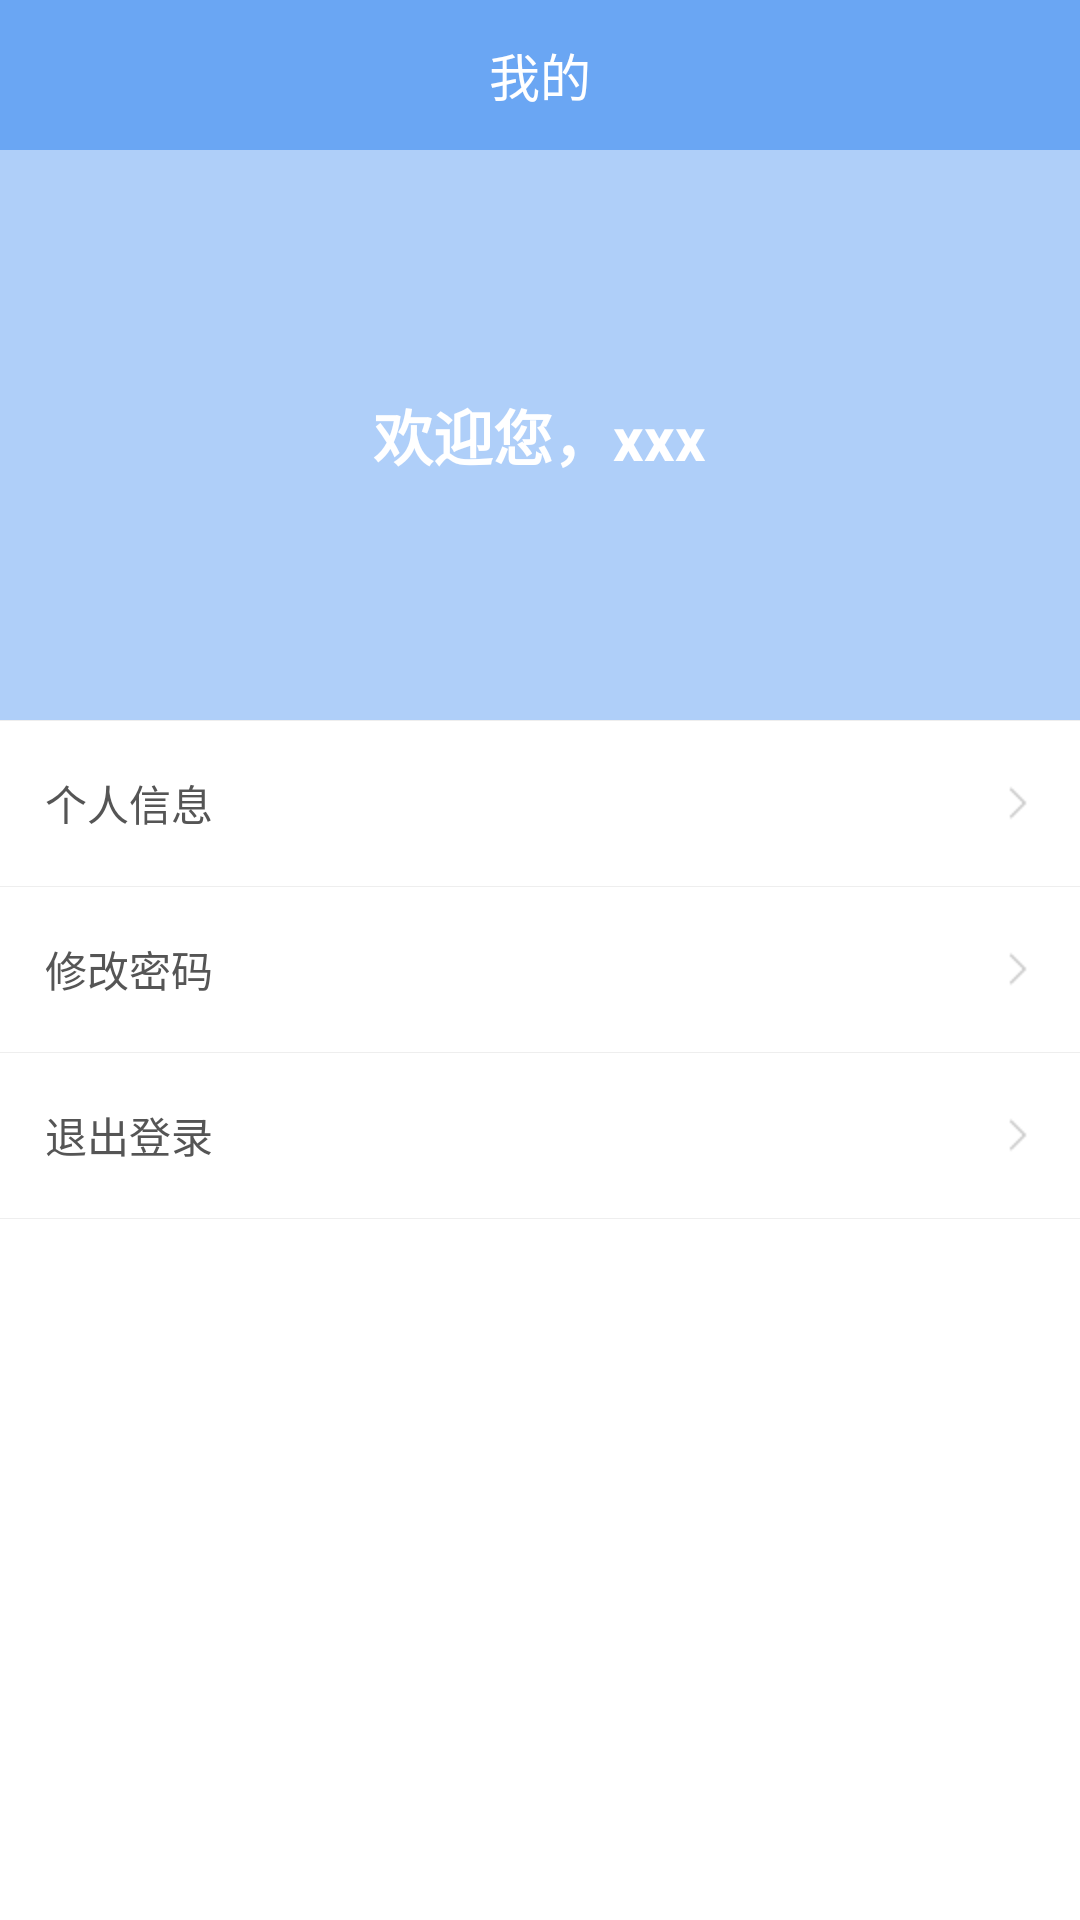

Icon bounding boxes for this 1080px×1920px phone screenshot, format [left=x1, top=y1, right=x2, bottom=y2]:
right: [left=1010, top=788, right=1026, bottom=818], [left=1010, top=954, right=1026, bottom=984], [left=1010, top=1120, right=1026, bottom=1150]
